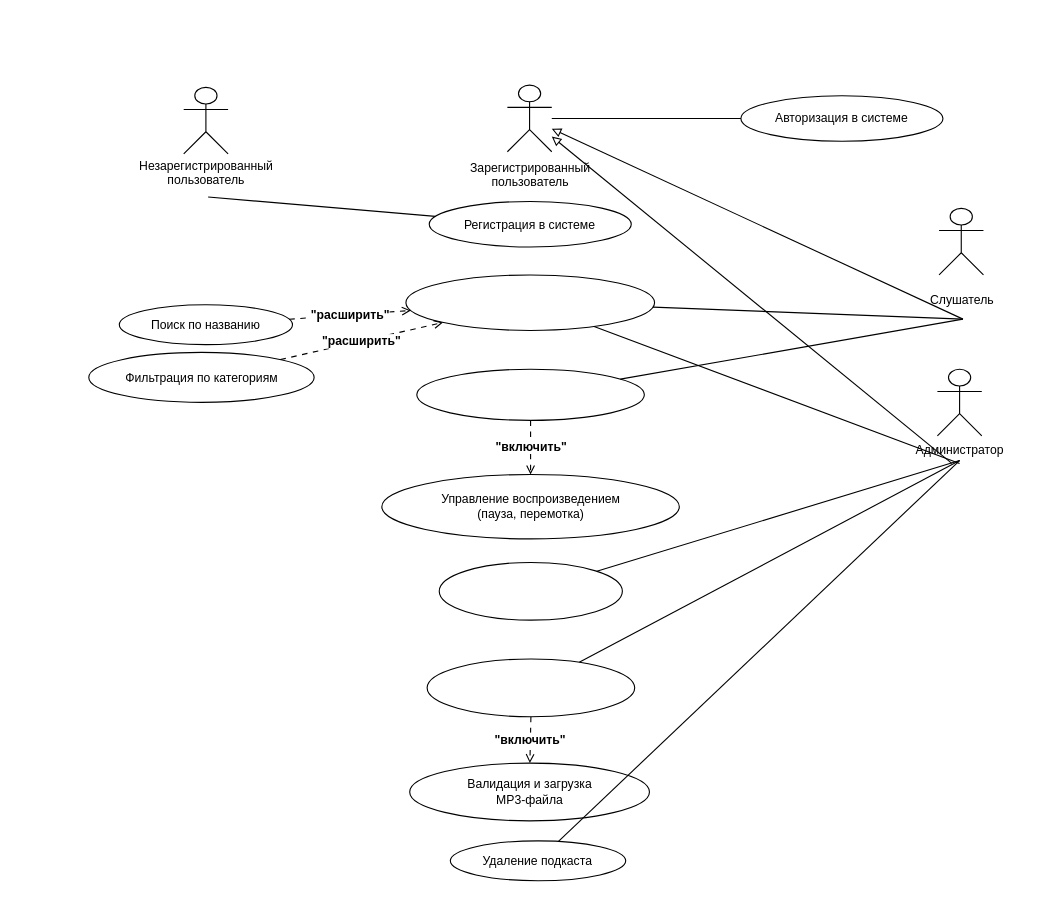
Image size: 1038x900. Some labels were removed from this diagram. Each missing label, with the box of its shape:
Воспроизведение подкаста: (416, 368, 644, 420)
Просмотр каталога подкастов: (405, 274, 655, 330)
Просмотр списка пользователей: (438, 561, 622, 620)
Публикация нового подкаста: (426, 658, 635, 717)
